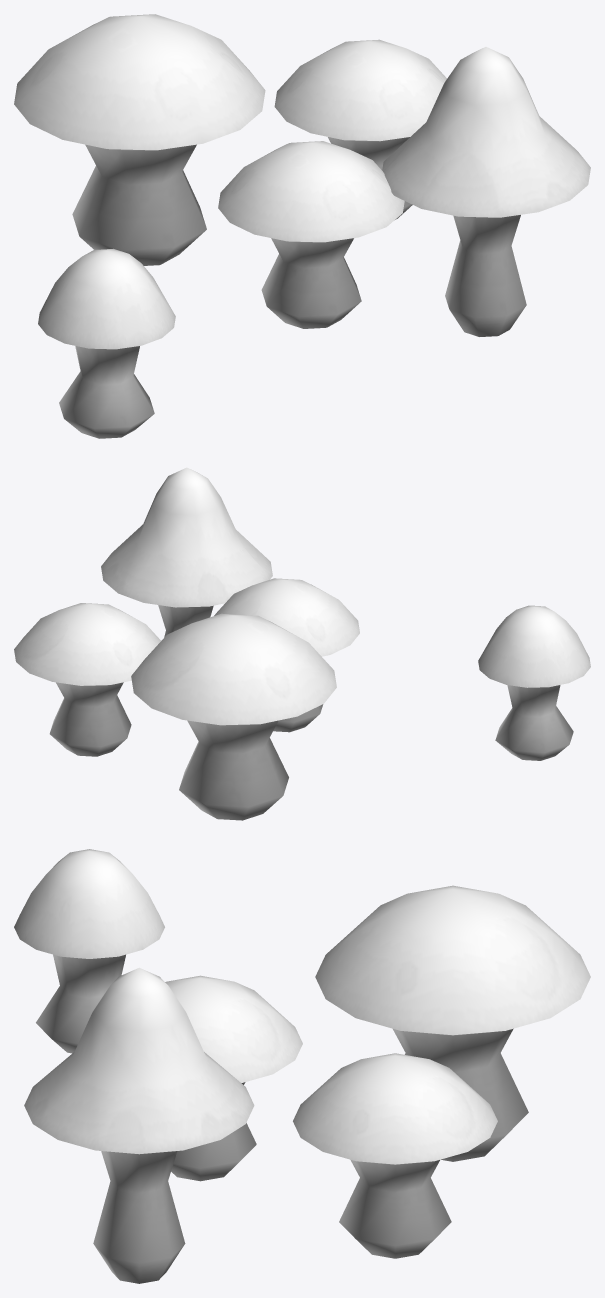
File: FloorDeco1B-003_02_05_1196.fbx
3 views of the same model, one above another, from view 1: azimuth 30°, elevation 25°; view 2: azimuth 150°, elevation 25°; view 3: azimuth 270°, elevation 25° (orthographic). The views are drawn at different scales.
Visible parts, largest first — view 1: Shroom1 (1), Shroom2 (1), Shroom1 (2), Shroom3 (1), Shroom1 (3); view 2: Shroom1 (1), Shroom2 (1), Shroom1 (3), Shroom3 (1), Shroom1 (2); view 3: Shroom1 (1), Shroom2 (1), Shroom1 (3), Shroom3 (1), Shroom1 (2).
Boxes of the visible parts, <box> form: Shroom1 (1): <box>14,14,265,265</box>; Shroom2 (1): <box>382,47,590,336</box>; Shroom1 (2): <box>218,141,404,328</box>; Shroom3 (1): <box>38,248,175,438</box>; Shroom1 (3): <box>274,39,446,219</box>; Shroom1 (1): <box>131,613,336,820</box>; Shroom2 (1): <box>101,467,272,637</box>; Shroom1 (3): <box>14,603,160,756</box>; Shroom3 (1): <box>478,605,590,760</box>; Shroom1 (2): <box>214,578,359,732</box>; Shroom1 (1): <box>315,885,590,1161</box>; Shroom2 (1): <box>24,967,254,1283</box>; Shroom1 (3): <box>293,1053,497,1258</box>; Shroom3 (1): <box>14,849,164,1053</box>; Shroom1 (2): <box>165,975,302,1181</box>.
Bounding box in the file's own units: 1.82 × 0.8799 × 1.51.
